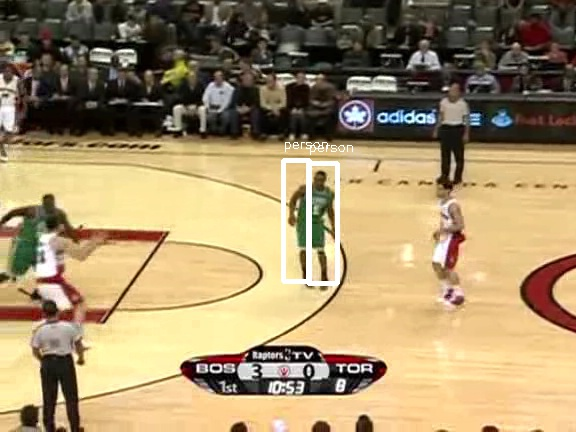person: (297, 177, 331, 258), (296, 177, 330, 258), (298, 177, 332, 258), (297, 176, 331, 257), (297, 178, 331, 259)
target_negative: (260, 187, 539, 386), (279, 85, 411, 398), (421, 195, 550, 353), (361, 95, 440, 247), (394, 9, 413, 239), (563, 158, 564, 242)
